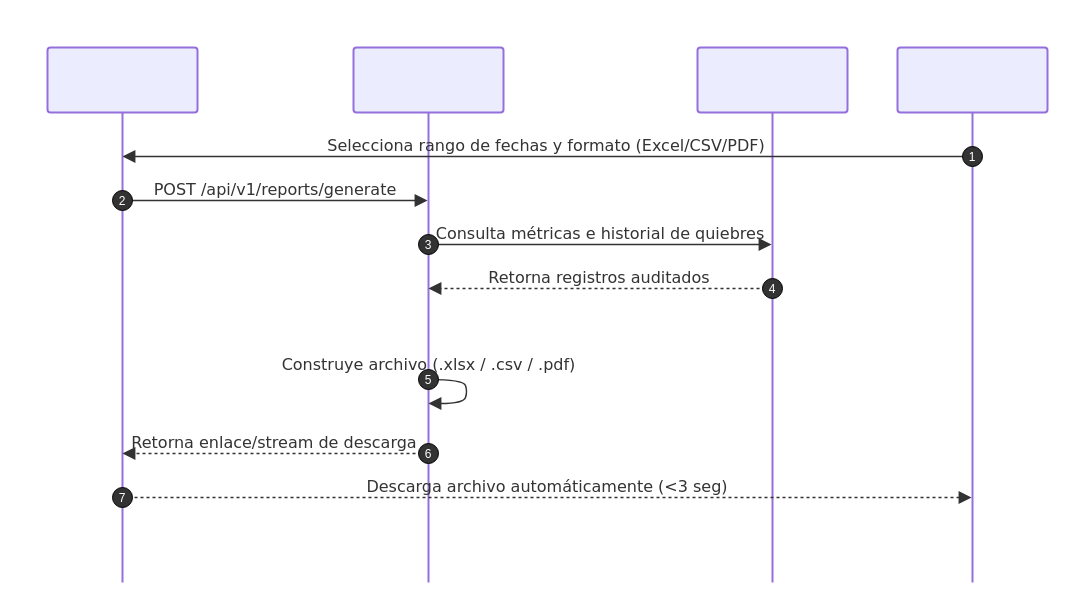
Some shapes in this 1065 by 600 pixel diagram are drawn without their labels. Here are the shapes that lost their labels. From the top down, the box of each, then its label:
(46, 46, 198, 583): Módulo Reportería Web
(352, 46, 504, 583): Generador de Reportes (Python)
(696, 46, 848, 583): Base de Datos
(896, 46, 1048, 583): Sup
